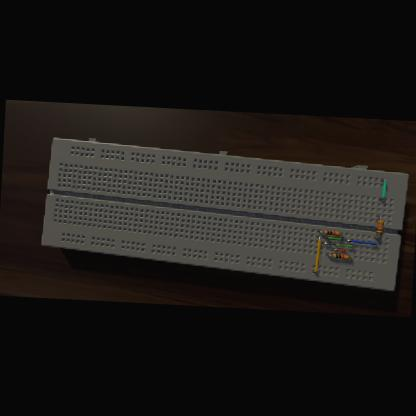breadboard: (40, 136, 410, 292)
resistor: (375, 221, 383, 236), (332, 254, 349, 260), (324, 230, 340, 236)
wire: (312, 236, 320, 274), (346, 239, 378, 245), (378, 180, 386, 200), (322, 236, 342, 240), (333, 243, 353, 247), (332, 249, 346, 253), (376, 216, 380, 220), (323, 242, 330, 244), (374, 235, 378, 238), (326, 254, 332, 256), (318, 232, 324, 233), (348, 257, 350, 258)
